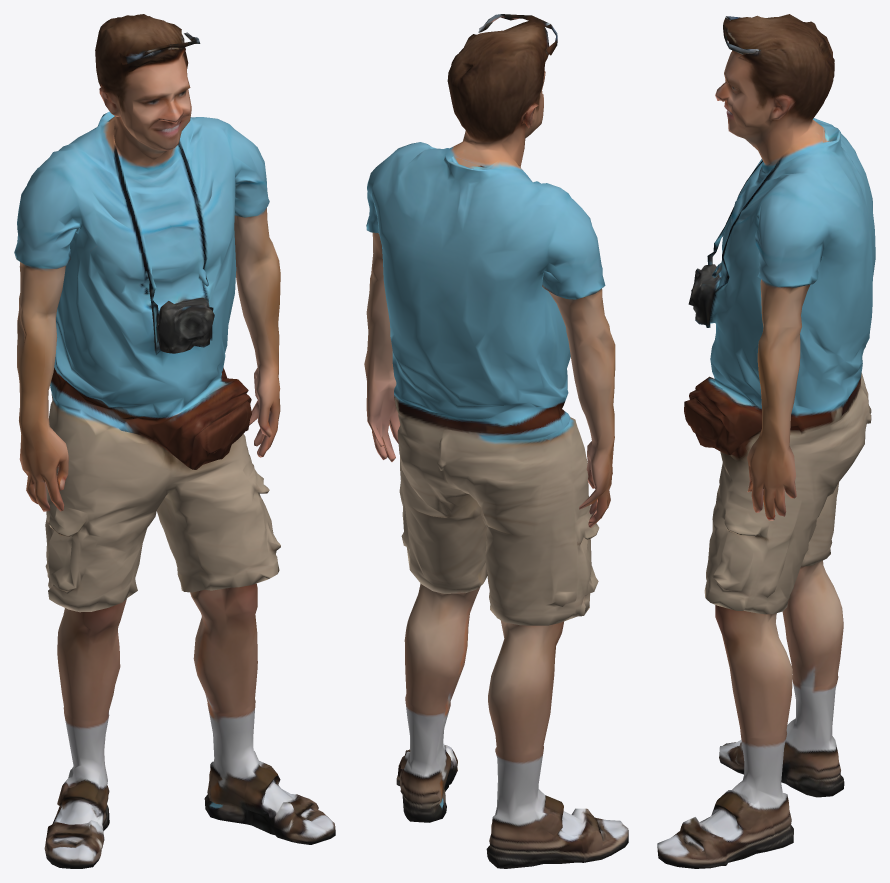
The model's file is bule_cowok_1_idle.glb.
3 views of the same model, side by side, from view 1: azimuth 30°, elevation 25°; view 2: azimuth 150°, elevation 25°; view 3: azimuth 270°, elevation 25° (orthographic). The views are drawn at different scales.
Parts seen in each view (by area): view 1: tripo_node_dce0b732; view 2: tripo_node_dce0b732; view 3: tripo_node_dce0b732.
Boxes of the visible parts, x1=… form: tripo_node_dce0b732: x1=14, y1=14, x2=335, y2=868; tripo_node_dce0b732: x1=364, y1=14, x2=628, y2=868; tripo_node_dce0b732: x1=657, y1=14, x2=875, y2=868.
Bounding box in the file's own units: 33.48 × 99.76 × 25.29.
1 material, 1 textured.
